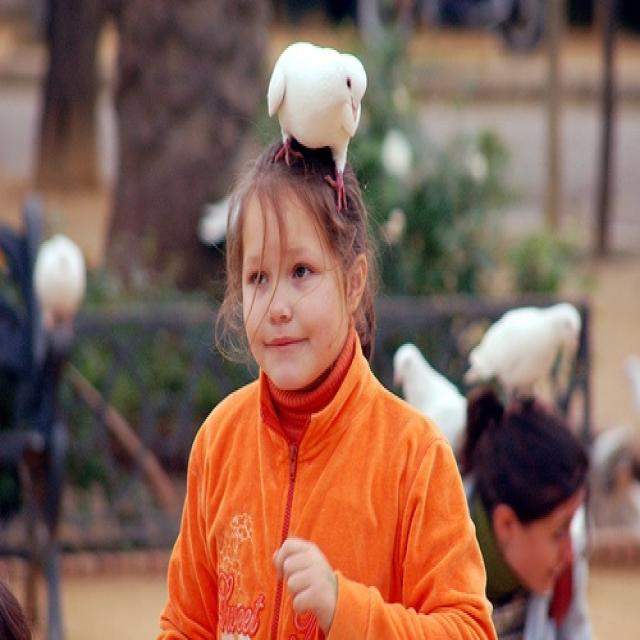bird: (265, 40, 366, 207), (462, 293, 590, 422), (381, 334, 477, 476)
person: (160, 139, 500, 639), (463, 395, 604, 639)
